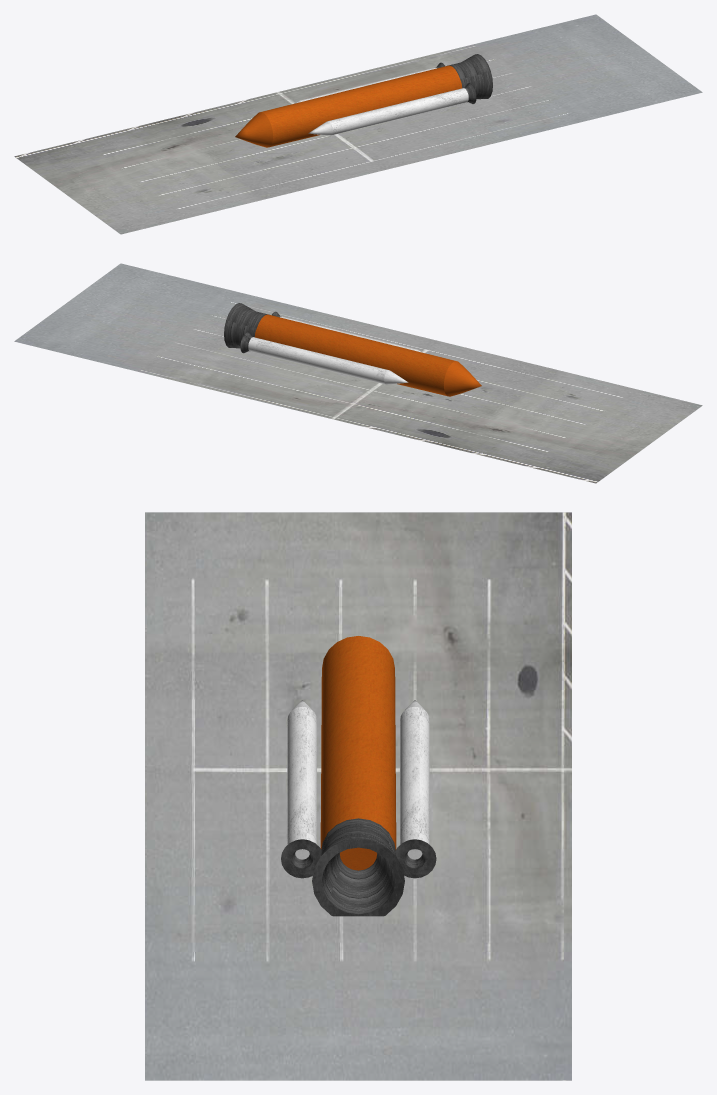
File: SpaceLv4.fbx
The picture shows the model from 3 angles, top to bottom: view 1: azimuth 30°, elevation 25°; view 2: azimuth 150°, elevation 25°; view 3: azimuth 270°, elevation 25°; orthographic projection. The views are drawn at different scales.
Parts seen in each view (by area): view 1: polySurface13; view 2: polySurface13; view 3: polySurface13.
Boxes of the visible parts, left/top/right/bottom form: polySurface13: left=14, top=14, right=702, bottom=234; polySurface13: left=14, top=263, right=702, bottom=483; polySurface13: left=145, top=512, right=571, bottom=1080.
Bounding box in the file's own units: 275 × 19.2 × 87.38.
Materials: 4 (4 with a texture image).
